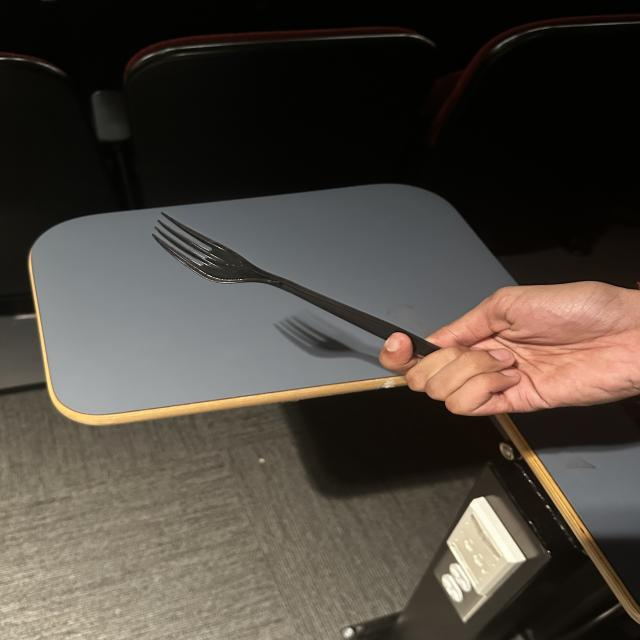fork: (98, 152, 486, 391)
